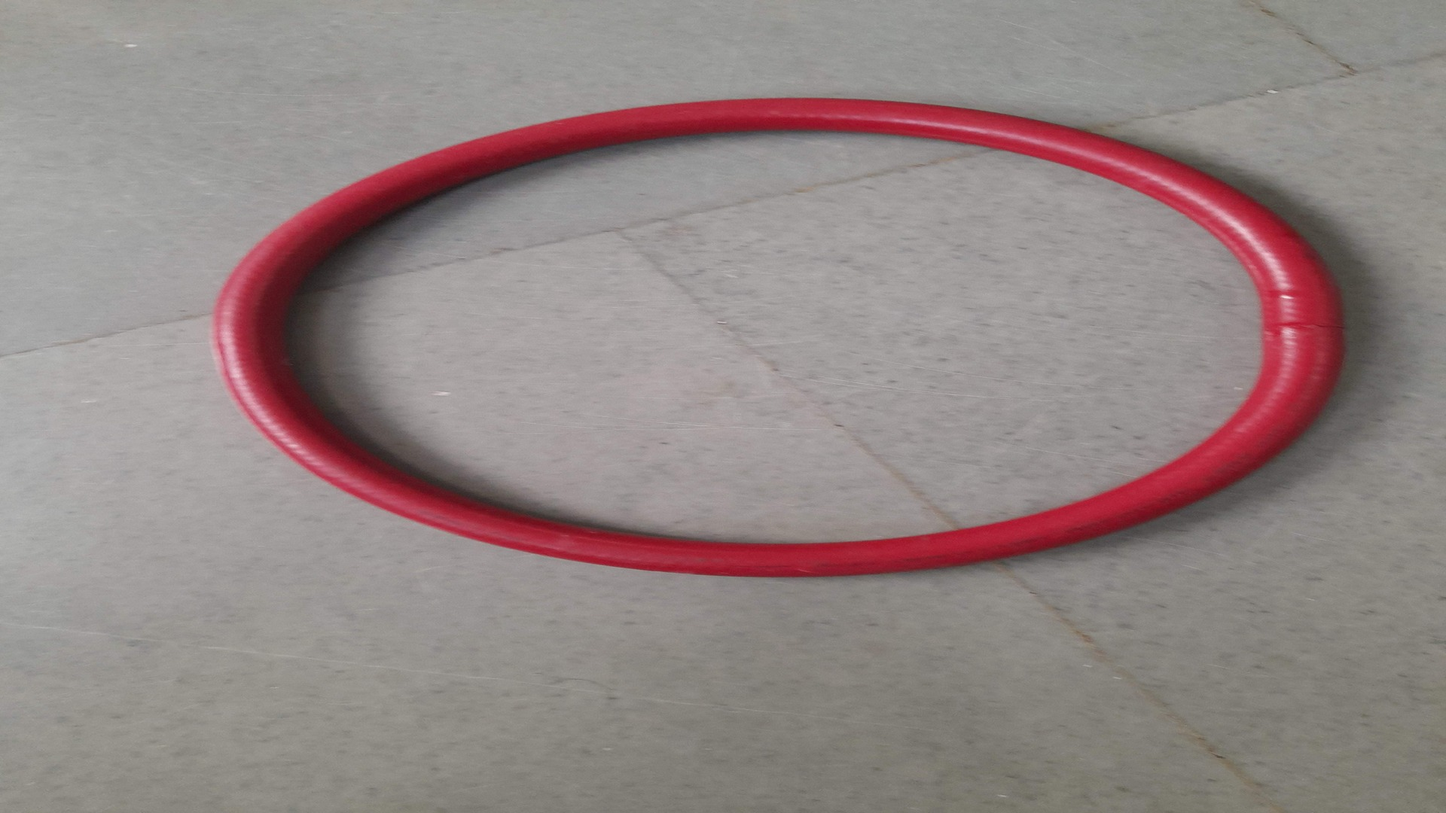Red ring: (209, 97, 1345, 577)
